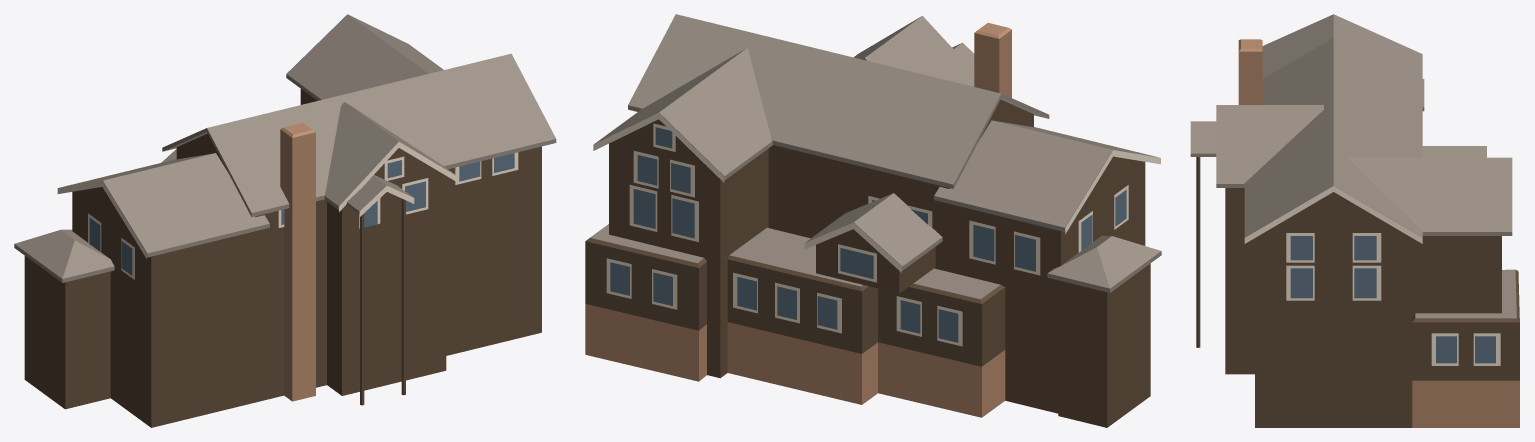
The model's file is grand-canyon-kolb-studio.glb.
The picture shows the model from 3 angles, left to right: view 1: azimuth 30°, elevation 25°; view 2: azimuth 150°, elevation 25°; view 3: azimuth 270°, elevation 25°; orthographic projection. The views are drawn at different scales.
Visible parts, largest first — view 1: Kolb Studio; view 2: Kolb Studio; view 3: Kolb Studio.
Part boxes in pixels (left/top/right/bottom): Kolb Studio: left=14, top=14, right=556, bottom=427; Kolb Studio: left=585, top=14, right=1161, bottom=427; Kolb Studio: left=1190, top=14, right=1519, bottom=427.
Bounding box in the file's own units: 34.73 × 19.5 × 22.08.
